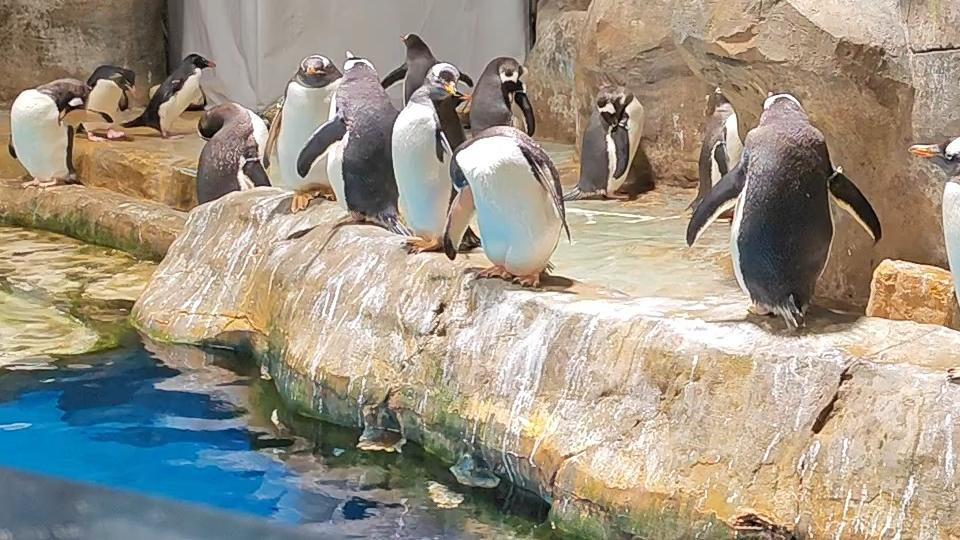Southern Rockhopper Penguin: (123, 49, 224, 141), (66, 66, 151, 117)
